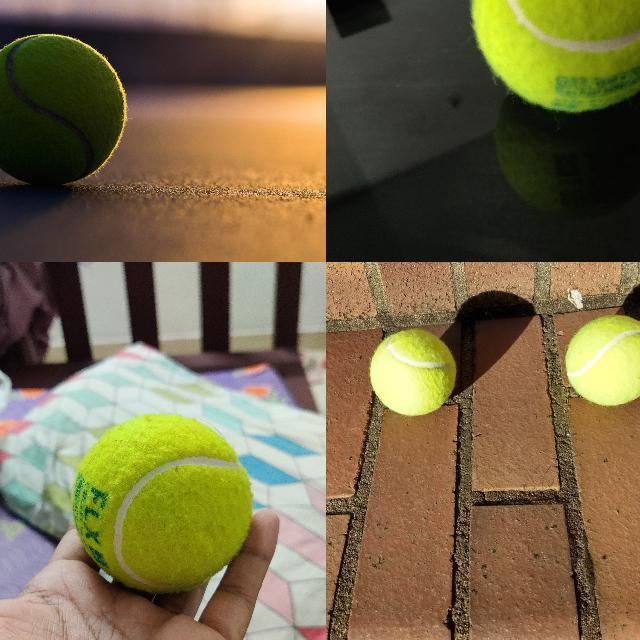tennis-ball: (69, 413, 253, 594), (0, 32, 128, 184), (468, 0, 639, 113), (369, 328, 457, 416), (564, 315, 639, 408)
